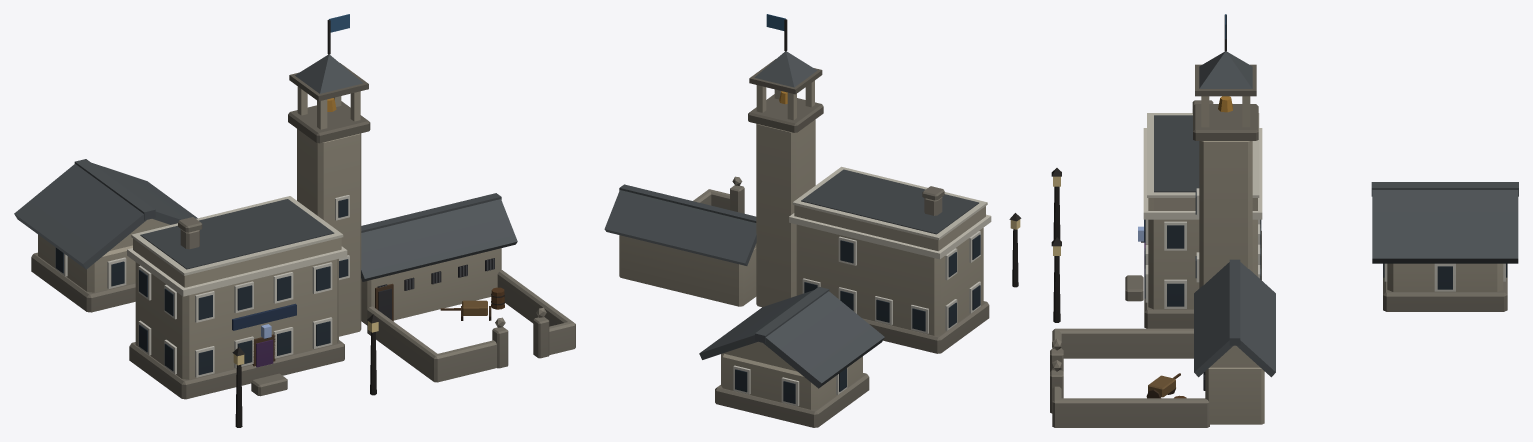
Rendered from watchhouse.glb.
The picture shows the model from 3 angles, left to right: view 1: azimuth 30°, elevation 25°; view 2: azimuth 150°, elevation 25°; view 3: azimuth 270°, elevation 25°; orthographic projection. The views are drawn at different scales.
Visible parts, largest first — view 1: watchhouse_model; view 2: watchhouse_model; view 3: watchhouse_model.
Part boxes in pixels (x1,y1,x2,y2): watchhouse_model: (14,14,575,427); watchhouse_model: (604,14,1021,427); watchhouse_model: (1050,14,1518,427).
Size of the model in its own units: 1.78 by 1.49 by 1.9.
